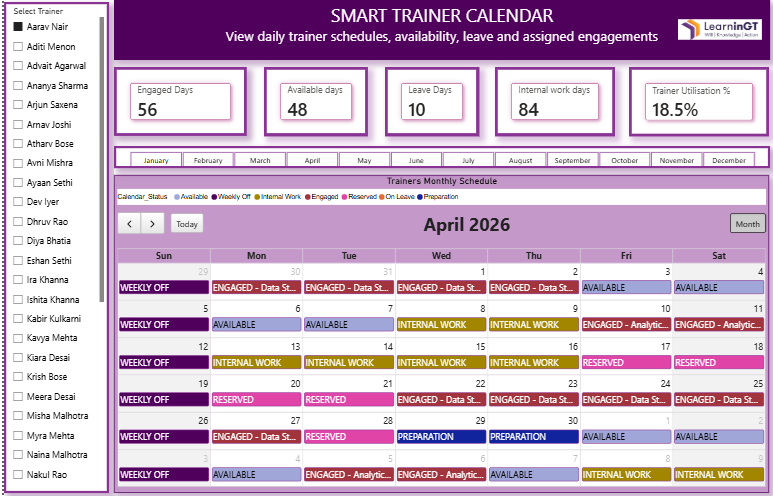

What the dashboard file says about the page in this screenshot:
{"tool":"powerbi","page":{"name":"Trainer Calender","canvas":[1400,900],"ordinal":1},"visuals":[{"type":"textbox","box":[198,0,1180.8,108],"z":0},{"type":"slicer","fields":{"Values":["Dim_Trainer.Trainer_Name"]},"box":[0,3.6,189,883.8],"z":1000},{"type":"cardVisual","fields":{"Data":["Fact_TrainerCalendar.Engaged Days Final"]},"box":[198,120.6,239.4,124.2],"z":3000},{"type":"cardVisual","fields":{"Data":["Fact_TrainerCalendar.Available Days Final"]},"box":[468.8,120,187.2,124.8],"z":4000},{"type":"cardVisual","fields":{"Data":["Dim_Date.Leave Days Final"]},"box":[686.4,120,169.6,124.8],"z":5000},{"type":"cardVisual","fields":{"Data":["Fact_TrainerCalendar.Internal Work Days Final"]},"box":[883.2,120,216,124.8],"z":6000},{"type":"cardVisual","fields":{"Data":["Dim_Date.Trainer Utilisation % Final"]},"box":[1125.7,120.1,252.3,125.3],"z":7000},{"type":"calendarVisual74934D05B71F4C31B0F79D925EE89638","box":[198.7,280.8,502.6,162.7],"z":8000},{"type":"calendarVisual74934D05B71F4C31B0F79D925EE89638","title":"Trainers Monthly Schedule","fields":{"StartDate":["Fact_TrainerCalendar.Calendar_Date"],"EndDate":["Fact_TrainerCalendar.Calendar_End_Date"],"description":["Fact_TrainerCalendar.Trainer_Name","Fact_TrainerCalendar.Client_Organization","Fact_TrainerCalendar.Training_Program","Fact_TrainerCalendar.Engagement_Type","Fact_TrainerCalendar.Delivery_Mode","Fact_TrainerCalendar.Venue_City","Fact_TrainerCalendar.Project_Status","Fact_TrainerCalendar.Project_Status","Dim_Trainer.Specialization","Fact_TrainerCalendar.Calendar Status Final","Fact_TrainerCalendar.Booking Status Final","Fact_TrainerCalendar.Secondary_Skill"],"events":["Fact_TrainerCalendar.Calendar Event Final"],"EventGroup":["Fact_TrainerCalendar.Calendar Status Final"]},"box":[198,315,1179,572.4],"z":9000},{"type":"slicer","fields":{"Values":["Dim_Date.Month Name"]},"box":[198,262.8,1180.8,39.6],"z":10000},{"type":"image","box":[1213.2,3.6,151.2,99],"z":12000}]}

Visuals, with their boxes in screenshot pixels (x1, y1, x2, y2), scaled from the page's 1400x900 canvas onto the 773x496 screenshot:
textbox: (left=109, top=0, right=761, bottom=60)
slicer - Dim_Trainer.Trainer_Name: (left=0, top=2, right=104, bottom=489)
cardVisual - Fact_TrainerCalendar.Engaged Days Final: (left=109, top=66, right=242, bottom=135)
cardVisual - Fact_TrainerCalendar.Available Days Final: (left=259, top=66, right=362, bottom=135)
cardVisual - Dim_Date.Leave Days Final: (left=379, top=66, right=473, bottom=135)
cardVisual - Fact_TrainerCalendar.Internal Work Days Final: (left=488, top=66, right=607, bottom=135)
cardVisual - Dim_Date.Trainer Utilisation % Final: (left=622, top=66, right=761, bottom=135)
calendarVisual74934D05B71F4C31B0F79D925EE89638: (left=110, top=155, right=387, bottom=244)
"Trainers Monthly Schedule" calendarVisual74934D05B71F4C31B0F79D925EE89638: (left=109, top=174, right=760, bottom=489)
slicer - Dim_Date.Month Name: (left=109, top=145, right=761, bottom=167)
image: (left=670, top=2, right=753, bottom=57)
